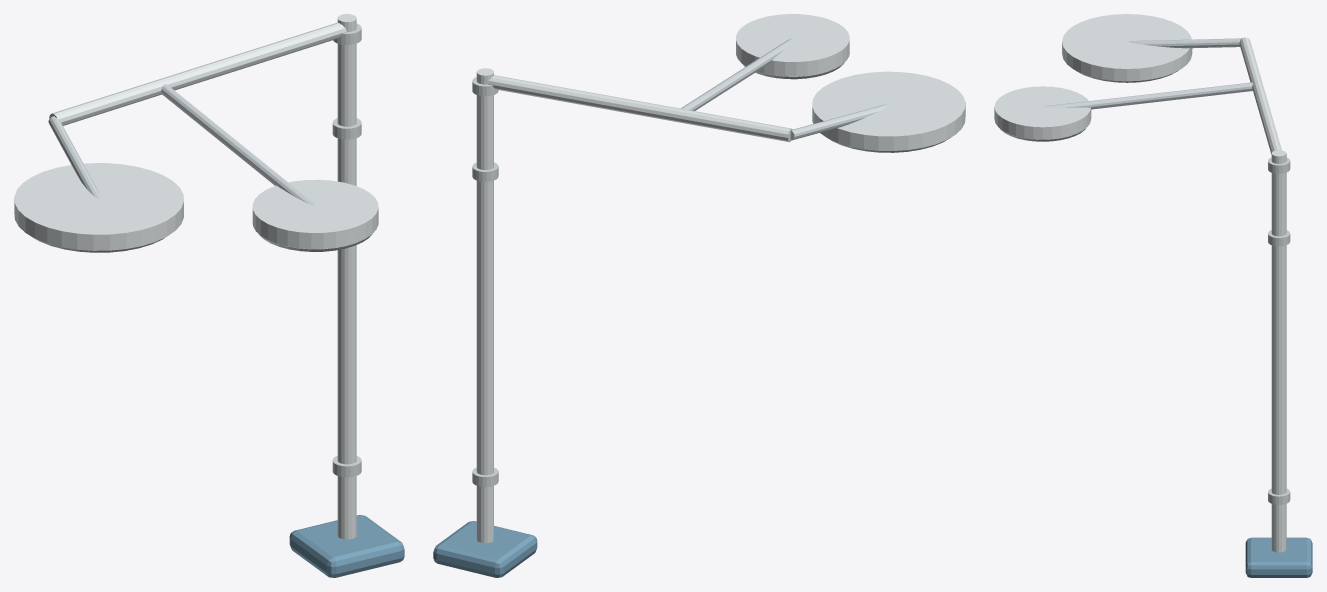
Rendered from SurgicalLights.glb.
The picture shows the model from 3 angles, left to right: view 1: azimuth 30°, elevation 25°; view 2: azimuth 150°, elevation 25°; view 3: azimuth 270°, elevation 25°; orthographic projection. The views are drawn at different scales.
Visible parts, largest first — view 1: SurgicalLights_white_01, SurgicalLights_metal_01, SurgicalLights_frame_01; view 2: SurgicalLights_white_01, SurgicalLights_metal_01, SurgicalLights_frame_01; view 3: SurgicalLights_white_01, SurgicalLights_metal_01, SurgicalLights_frame_01.
Part boxes in pixels (x1,y1,x2,y2): SurgicalLights_white_01: (14,14,378,539); SurgicalLights_metal_01: (30,23,372,477); SurgicalLights_frame_01: (289,515,404,577); SurgicalLights_white_01: (476,14,965,543); SurgicalLights_metal_01: (472,38,950,486); SurgicalLights_frame_01: (433,521,537,577); SurgicalLights_white_01: (994,14,1286,552); SurgicalLights_metal_01: (999,38,1290,504); SurgicalLights_frame_01: (1245,537,1312,577).
Size of the model in its own units: 6.55 by 7.34 by 5.13.
